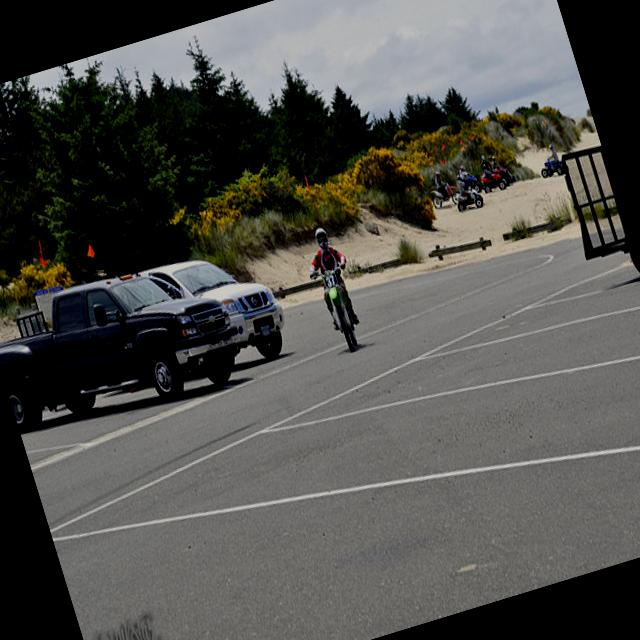Vehicle: (0, 235, 262, 449), (134, 235, 295, 388), (143, 234, 296, 382), (309, 262, 369, 361), (429, 180, 463, 210), (453, 185, 484, 213), (481, 169, 508, 195), (497, 167, 511, 186)
